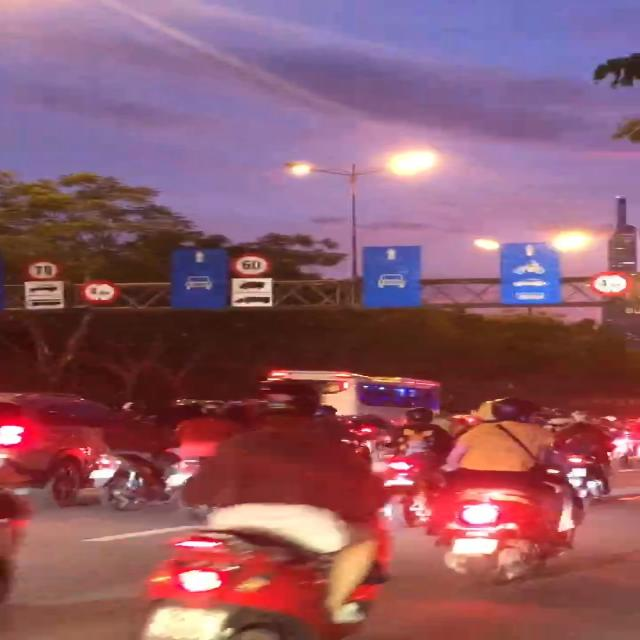Bien bao han che chieu cao: (79, 278, 120, 306)
Bien bao toc do toi da cho phep: (230, 250, 278, 278), (21, 257, 67, 282)
